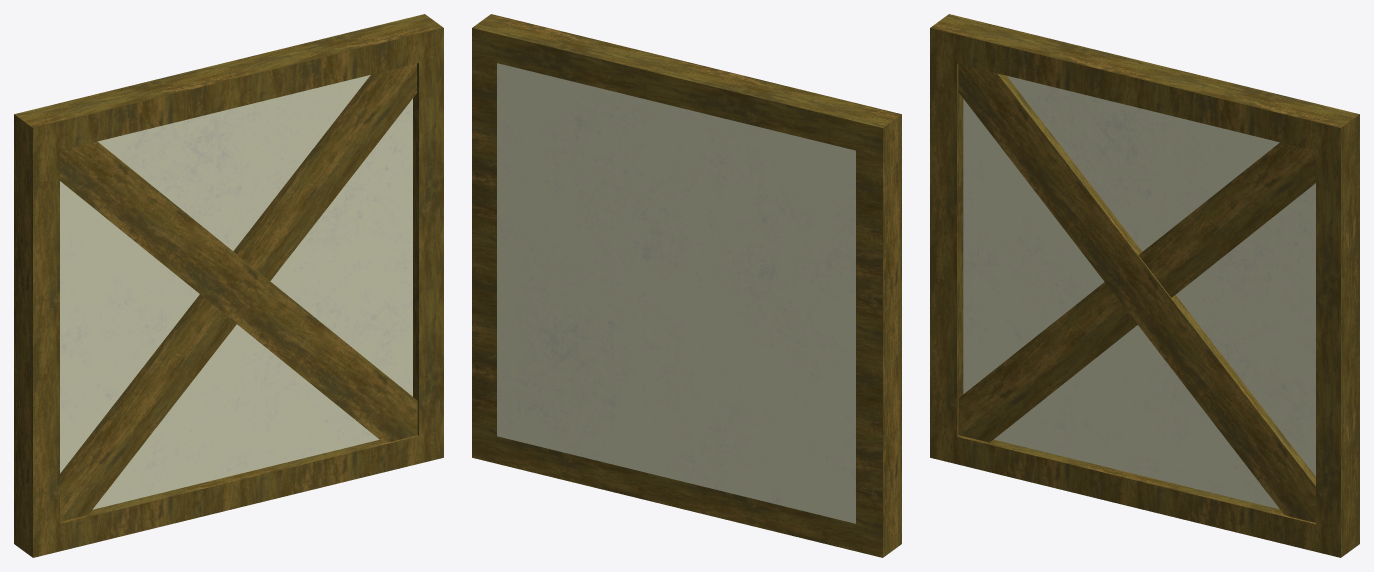
File: Wall Cross.fbx
3 renders of one model, left to right at view 1: azimuth 30°, elevation 25°; view 2: azimuth 150°, elevation 25°; view 3: azimuth 330°, elevation 25°, orthographic.
Visible parts, largest first — view 1: Wall_Criss_Cross; view 2: Wall_Criss_Cross; view 3: Wall_Criss_Cross.
Part boxes in pixels (x1,y1,x2,y2): Wall_Criss_Cross: [14, 14, 443, 557]; Wall_Criss_Cross: [472, 14, 901, 557]; Wall_Criss_Cross: [930, 14, 1359, 557].
Size of the model in its own units: 312 by 312 by 25.
